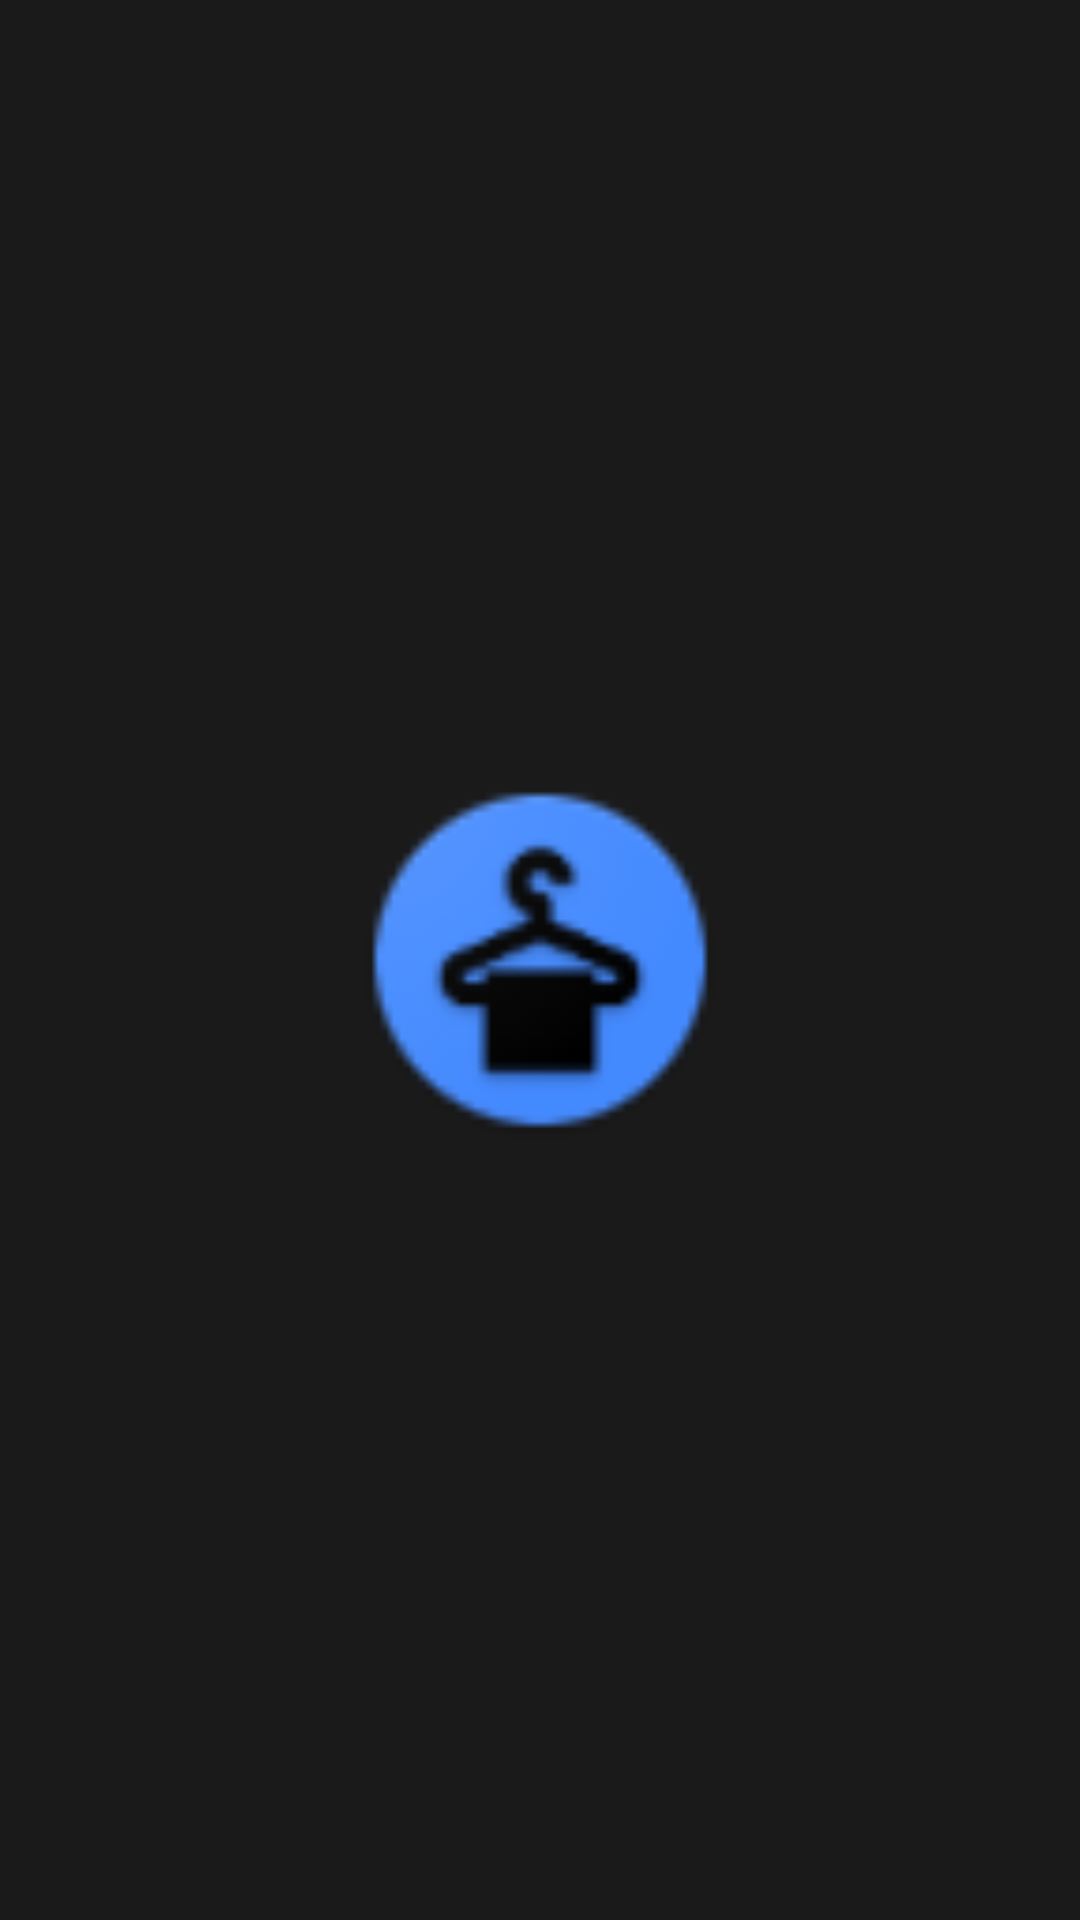

Named icons in this screenshot (1080x1920) and their bounding boxes, (x1, y1, x2, y2):
cleaner: (372, 792, 708, 1128)
